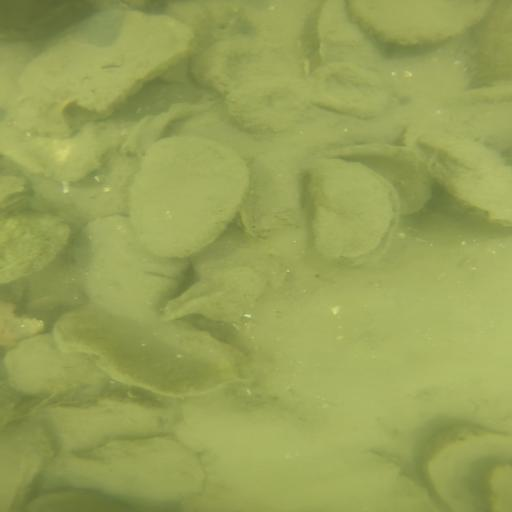Oyster-Closed: (13, 14, 194, 136), (132, 137, 249, 259), (75, 218, 180, 322), (47, 439, 207, 507), (413, 137, 510, 226), (311, 160, 393, 264), (192, 34, 305, 92), (349, 1, 492, 46), (48, 401, 174, 451), (3, 334, 105, 393), (1, 212, 70, 284), (228, 77, 310, 133), (308, 65, 389, 117), (7, 423, 51, 509), (320, 4, 378, 64), (27, 489, 130, 512)
Oyster-Open: (104, 316, 241, 396), (425, 436, 512, 512)
